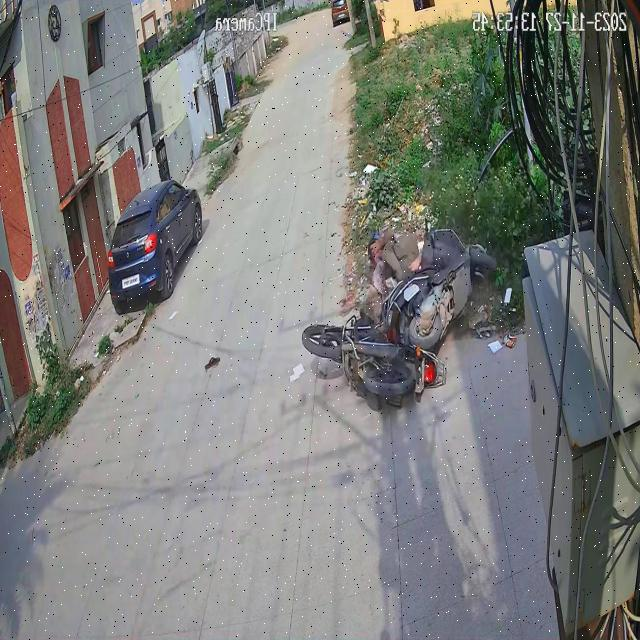accident: (297, 206, 505, 411)
